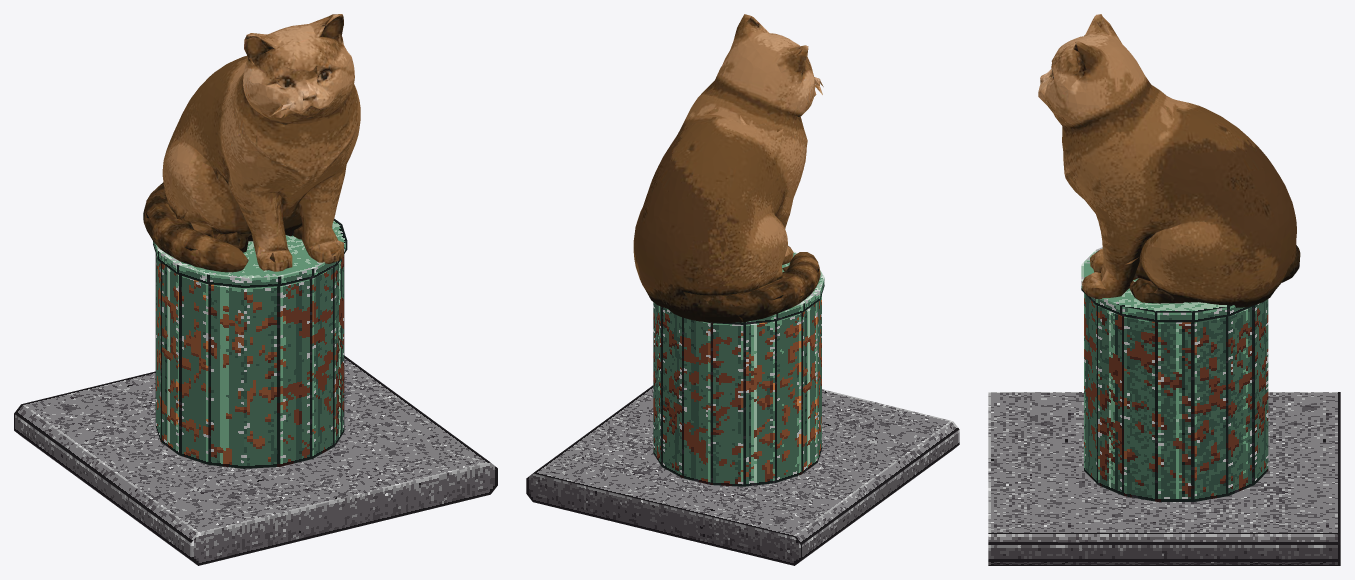
Rendered from boss.glb.
3 views of the same model, side by side, from view 1: azimuth 30°, elevation 25°; view 2: azimuth 150°, elevation 25°; view 3: azimuth 270°, elevation 25° (orthographic). The views are drawn at different scales.
Visible parts, largest first — view 1: base, model_cat, drum, drum_lid; view 2: model_cat, base, drum, drum_lid; view 3: model_cat, base, drum, drum_lid.
Boxes of the visible parts, x1=… form: base: x1=14, y1=355, x2=497, y2=565; model_cat: x1=143, y1=14, x2=360, y2=272; drum: x1=155, y1=254, x2=344, y2=468; drum_lid: x1=153, y1=219, x2=347, y2=287; model_cat: x1=633, y1=14, x2=823, y2=322; base: x1=526, y1=385, x2=959, y2=565; drum: x1=653, y1=295, x2=821, y2=486; drum_lid: x1=667, y1=251, x2=824, y2=324; model_cat: x1=1038, y1=14, x2=1300, y2=307; base: x1=988, y1=392, x2=1340, y2=565; drum: x1=1084, y1=293, x2=1268, y2=501; drum_lid: x1=1081, y1=247, x2=1256, y2=322.
Bounding box in the file's own units: 30 × 44.26 × 30.
2 materials, 2 textured.
